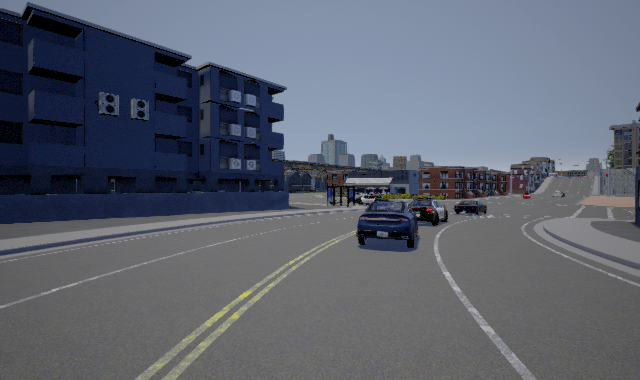vehicle: (355, 199, 418, 248), (404, 195, 450, 226), (453, 200, 487, 215)
